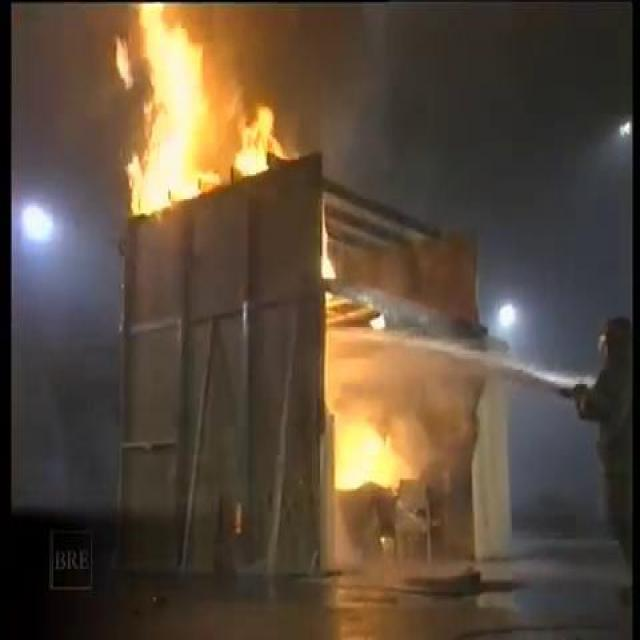fire: (104, 12, 284, 216), (325, 339, 422, 501)
